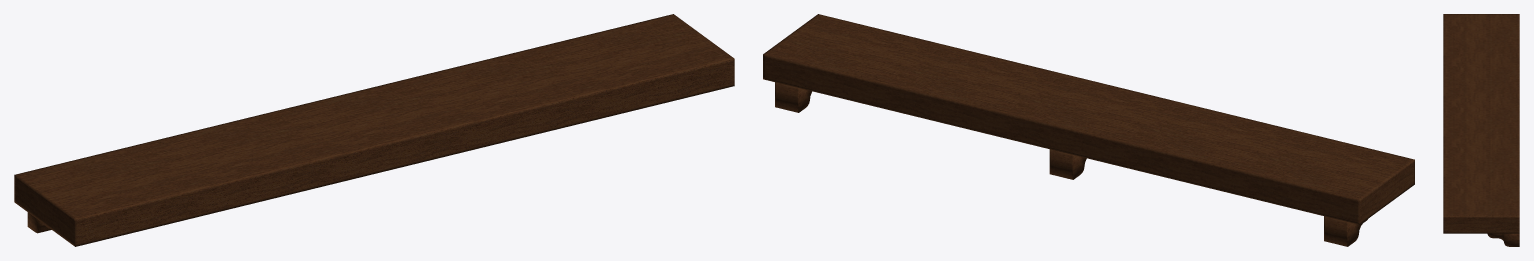
Rendered from wall.stand.fbx.
3 renders of one model, left to right at view 1: azimuth 30°, elevation 25°; view 2: azimuth 150°, elevation 25°; view 3: azimuth 270°, elevation 25°, orthographic. The views are drawn at different scales.
Parts seen in each view (by area): view 1: holder.001; view 2: holder.001, support.002, support.001, support.003; view 3: holder.001, support.003.
Part boxes in pixels (x1,y1,x2,y2): holder.001: (14,14,734,246); holder.001: (763,14,1414,224); support.002: (1324,216,1367,246); support.001: (1049,149,1086,179); support.003: (775,82,812,112); holder.001: (1443,14,1519,233); support.003: (1487,233,1519,246).
Size of the model in its own units: 50 by 4 by 8.
